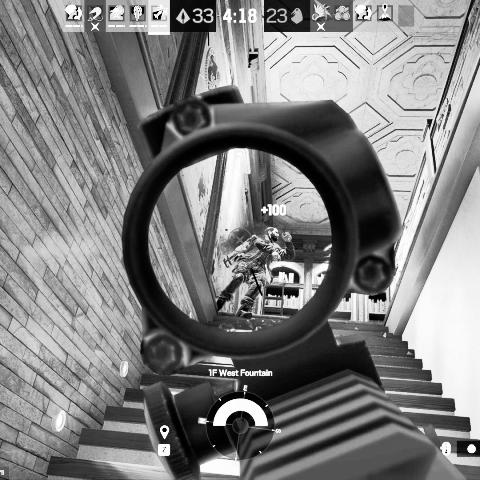Character: (214, 225, 298, 320)
Head: (264, 226, 280, 243)
